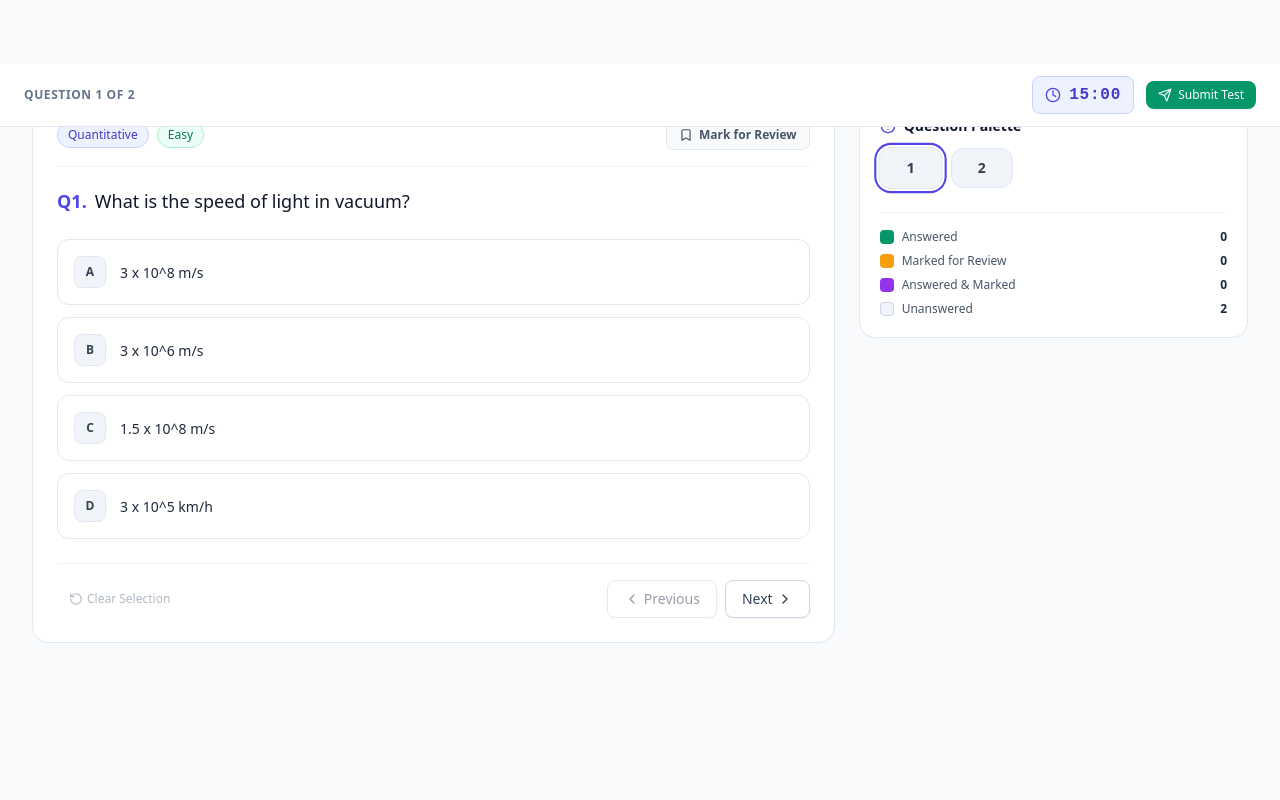
Scenario: Candidate Assessment UI Flow › Assessment Engine Reliability & Concurrency › guards against rapid answer changes race condition
// Rapidly click Option A then Option B
What coordinates should you click on to do the following:
click the text "3 x 10^8 m/s"
I would click on:
 (162, 272)
Its box is [120,262,203,282].
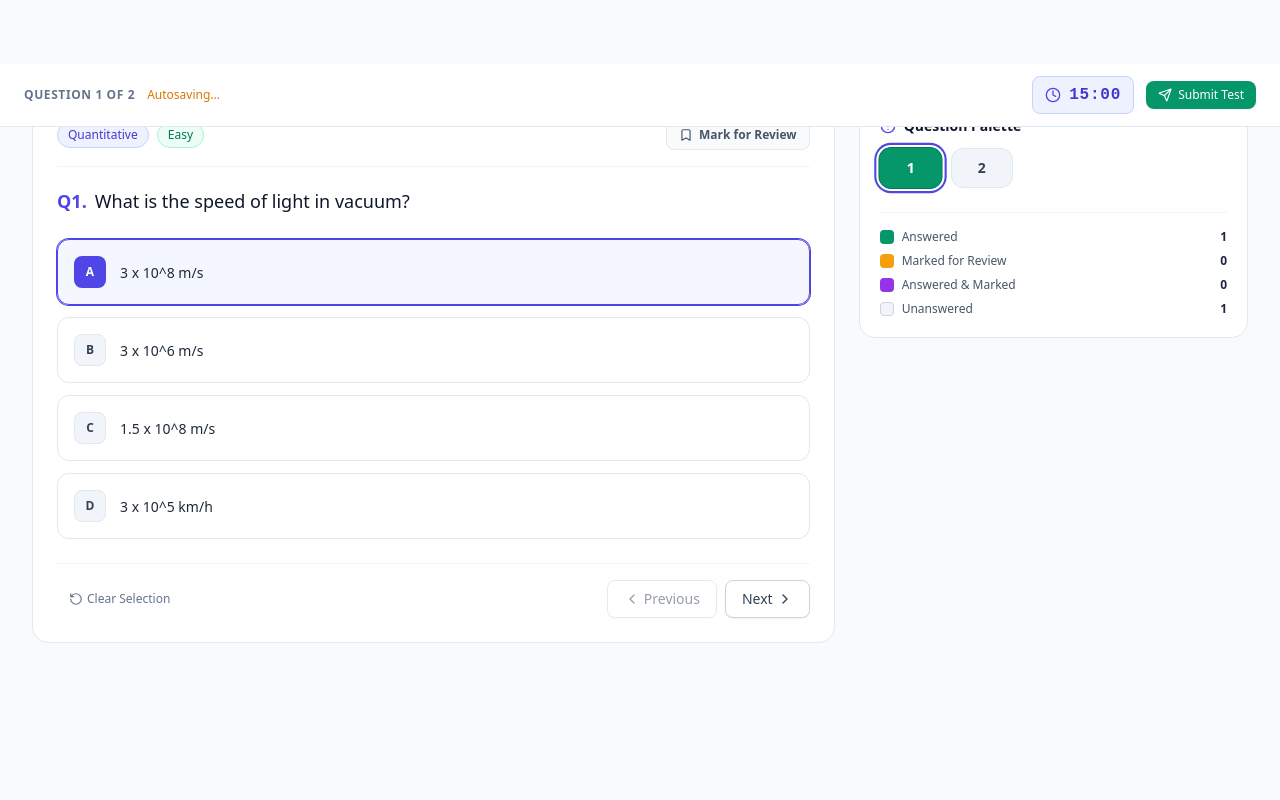
What coordinates should you click on to do the following:
click the text "3 x 10^6 m/s"
I would click on:
 (162, 350)
Its box is [120,340,203,360].
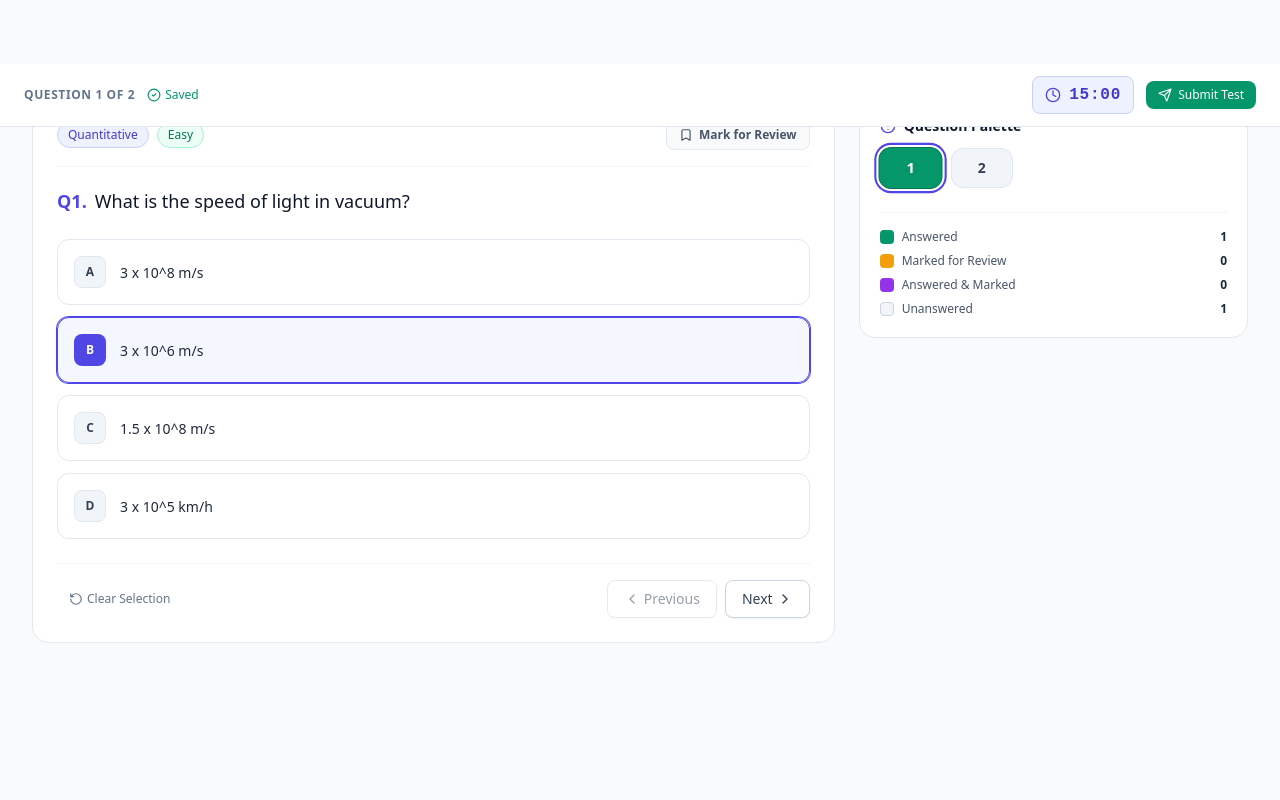
Now the text "Saved" is shown, box [147,87,199,103]
